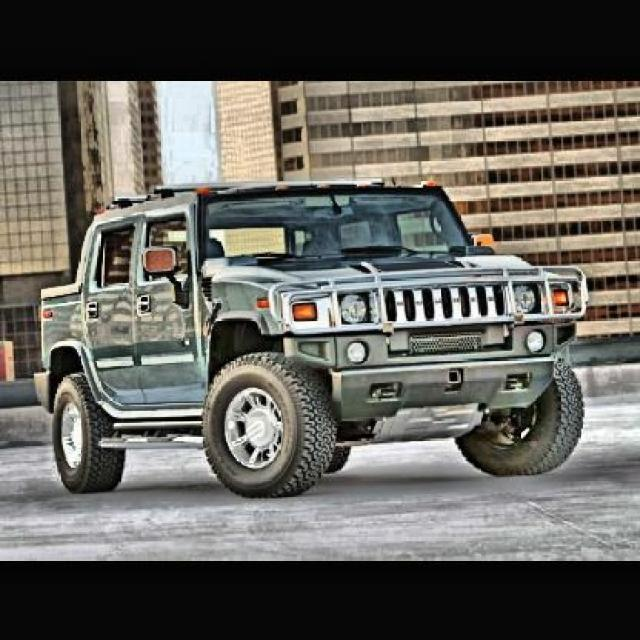black: (43, 194, 586, 466)
